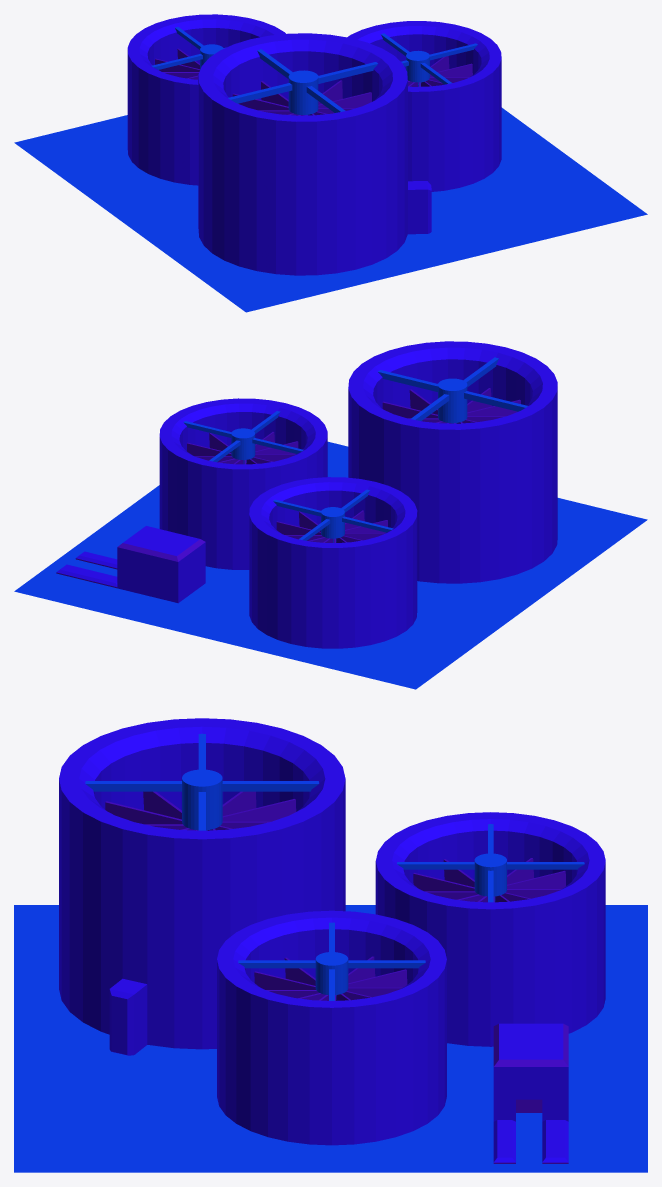
The model's file is purification_blue.fbx.
3 views of the same model, one above another, from view 1: azimuth 30°, elevation 25°; view 2: azimuth 150°, elevation 25°; view 3: azimuth 270°, elevation 25° (orthographic). The views are drawn at different scales.
Parts seen in each view (by area): view 1: Cylinder.032, Plane, Cylinder.030, Cylinder.037, Cube.042, Cube.049, Cube.034, Cube.037, Cube.050, Cube.054; view 2: Cylinder.032, Plane, Cylinder.037, Cylinder.030, Plane.001, Cube.042, Cube.034, Cube.050, Cube.049, Cube.037, Cube.054; view 3: Plane, Cylinder.032, Cylinder.030, Cylinder.037, Plane.001, Cube.042, Cube.049, Cube.037, Cube.054, Cube.034, Cube.050.
Part boxes in pixels (box(x1,y1,x2,y2)): Cylinder.032: box(198, 33, 431, 275); Plane: box(14, 107, 647, 312); Cylinder.030: box(347, 21, 501, 191); Cylinder.037: box(127, 14, 285, 185); Cube.042: box(228, 49, 377, 115); Cube.049: box(232, 80, 371, 115); Cube.034: box(381, 33, 477, 86); Cube.037: box(408, 56, 472, 86); Cube.050: box(151, 27, 225, 69); Cube.054: box(155, 48, 199, 78); Cylinder.032: box(348, 341, 557, 583); Plane: box(14, 441, 647, 689); Cylinder.037: box(249, 477, 417, 648); Cylinder.030: box(159, 398, 327, 569); Plane.001: box(56, 526, 205, 603); Cube.042: box(378, 357, 527, 423); Cube.034: box(183, 411, 303, 463); Cube.050: box(273, 489, 393, 542); Cube.049: box(382, 388, 520, 423); Cube.037: box(187, 432, 298, 464); Cube.054: box(285, 510, 387, 542); Plane: box(14, 905, 647, 1172); Cylinder.032: box(59, 718, 345, 1055); Cylinder.030: box(217, 910, 446, 1145); Cylinder.037: box(375, 812, 605, 1046); Plane.001: box(493, 1023, 568, 1163); Cube.042: box(85, 733, 319, 830); Cube.049: box(105, 791, 296, 830); Cube.037: box(254, 956, 407, 1000); Cube.054: box(413, 858, 565, 902); Cube.034: box(238, 922, 425, 1000); Cube.050: box(397, 824, 584, 902).
Size of the model in its own units: 1000 by 377 by 1000.
